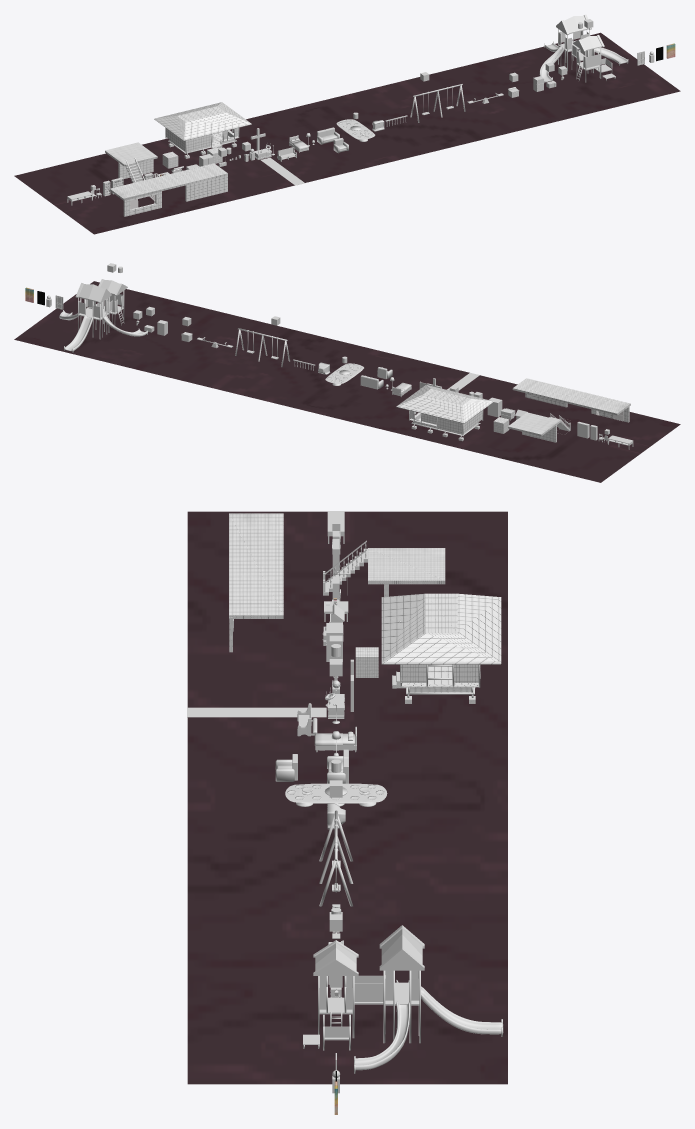
File: all assets.fbx
3 views of the same model, one above another, from view 1: azimuth 30°, elevation 25°; view 2: azimuth 150°, elevation 25°; view 3: azimuth 270°, elevation 25° (orthographic). The views are drawn at different scales.
Parts seen in each view (by area): view 1: Plane, Cube.105, Plane.002, Cube.053, Plane.001, Cube.104, Cube.054, Cube.184, Cube.138, Plane.014; view 2: Plane, Cube.105, Plane.002, Plane.001, Cube.184, Cube.104, Cube.180, Cube.138; view 3: Plane, Cube.105, Plane.002, Plane.001, Cube.184, Plane.014, Cube.138, Cube.185, Cube.182, Cube.180, Cube.101.
Boxes of the visible parts, x1,y1,x2,y2 form: Plane: (14, 32, 680, 234); Cube.105: (154, 102, 251, 140); Plane.002: (109, 163, 227, 200); Cube.053: (185, 175, 227, 201); Plane.001: (105, 142, 157, 166); Cube.104: (166, 128, 210, 151); Cube.054: (123, 191, 161, 216); Cube.184: (556, 14, 591, 35); Cube.138: (336, 119, 375, 139); Plane.014: (260, 157, 304, 185); Plane: (14, 281, 680, 482); Cube.105: (396, 385, 493, 423); Plane.002: (512, 378, 630, 415); Plane.001: (508, 412, 560, 436); Cube.184: (75, 283, 111, 303); Cube.104: (438, 410, 482, 433); Cube.180: (64, 315, 93, 351); Cube.138: (325, 363, 363, 383); Plane: (187, 511, 507, 1084); Cube.105: (381, 593, 501, 664); Plane.002: (229, 513, 283, 618); Plane.001: (368, 548, 445, 584); Cube.184: (379, 925, 424, 970); Plane.014: (187, 707, 326, 717); Cube.138: (285, 783, 387, 803); Cube.185: (313, 940, 358, 975); Cube.182: (354, 1001, 410, 1070); Cube.180: (421, 986, 503, 1034); Cube.101: (400, 664, 478, 682).
Size of the model in its own units: 12366 by 1104 by 2780.
12 materials, 4 textured.
